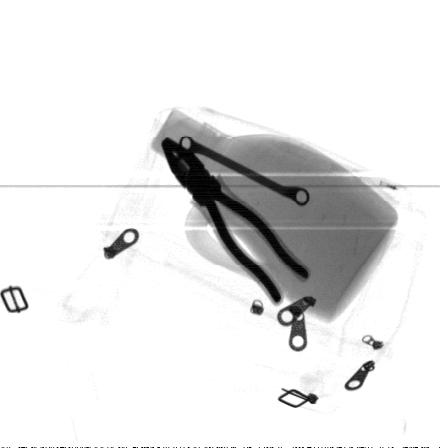Pliers: (160, 137, 312, 306)
Wrench: (177, 133, 311, 207)
